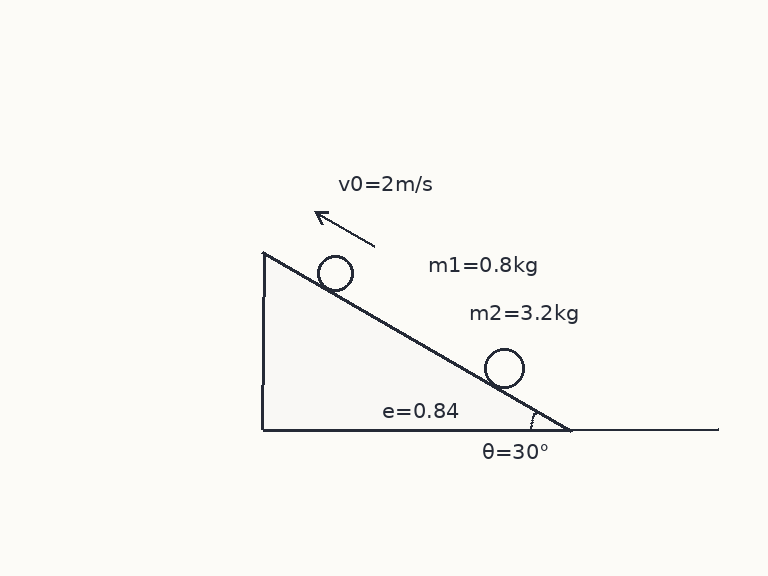ball: (482, 346, 526, 390), (315, 253, 355, 293)
ramp: (261, 250, 573, 432)
